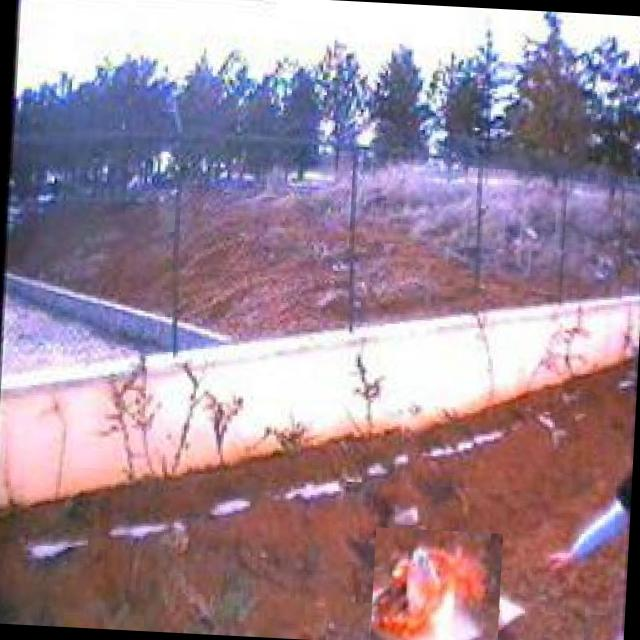fire: (370, 527, 503, 640)
